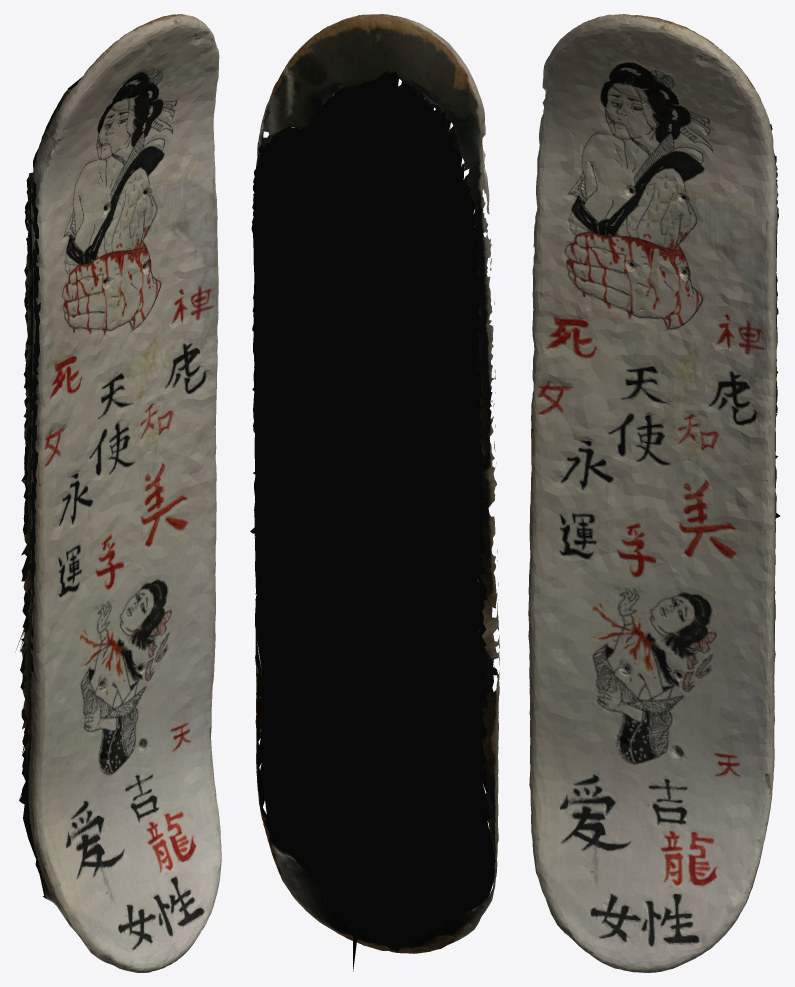
File: skate-web.glb
The picture shows the model from 3 angles, left to right: view 1: azimuth 30°, elevation 25°; view 2: azimuth 150°, elevation 25°; view 3: azimuth 330°, elevation 25°; orthographic projection.
Parts seen in each view (by area): view 1: Mesh_0; view 2: Mesh_0; view 3: Mesh_0.
Boxes of the visible parts, x1,y1,x2,y2 form: Mesh_0: [15, 14, 221, 972]; Mesh_0: [250, 14, 499, 971]; Mesh_0: [528, 14, 779, 972].
Bounding box in the file's own units: 0.1942 × 0.7852 × 0.0894.
2 materials, 1 textured.
